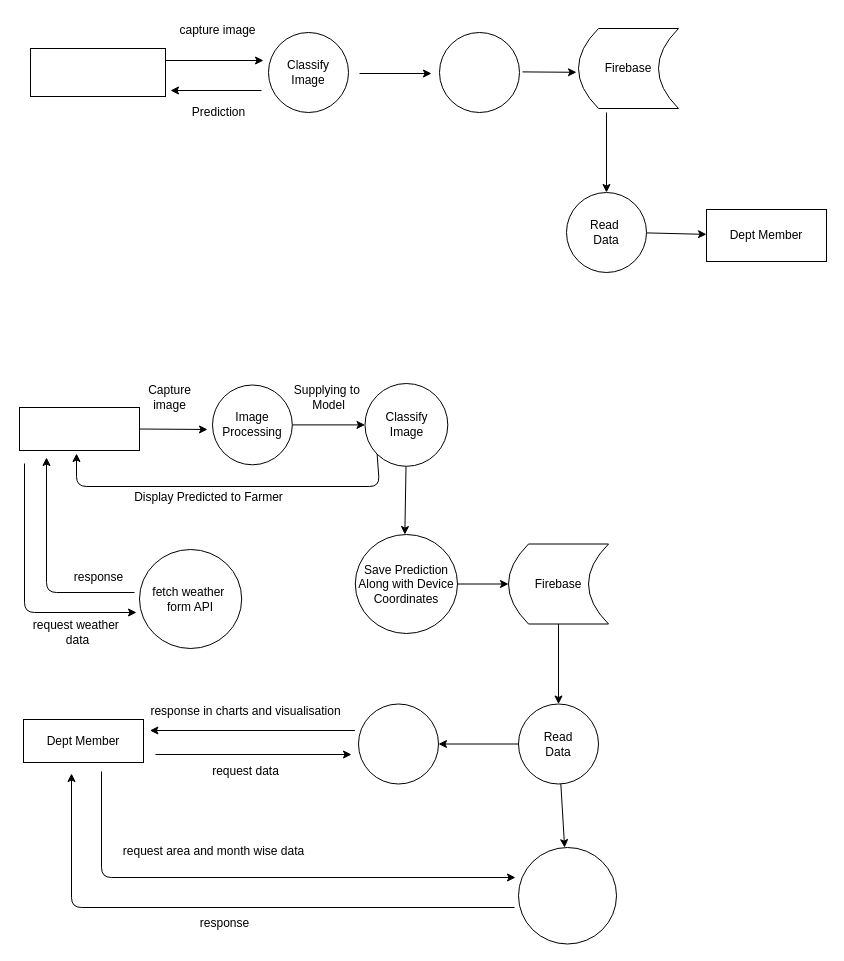
Some shapes in this 844 by 961 pixel diagram are drawn without their labels. The box of each missing label's shape, as (x1, y1, x2, y2) in pixels:
Farmer: (18, 406, 140, 450)
In-Depth Analysis based on month and arae: (518, 846, 616, 944)
Save Prediction: (438, 32, 520, 112)
User: (30, 48, 166, 96)
Visualize Data: (358, 703, 438, 784)
